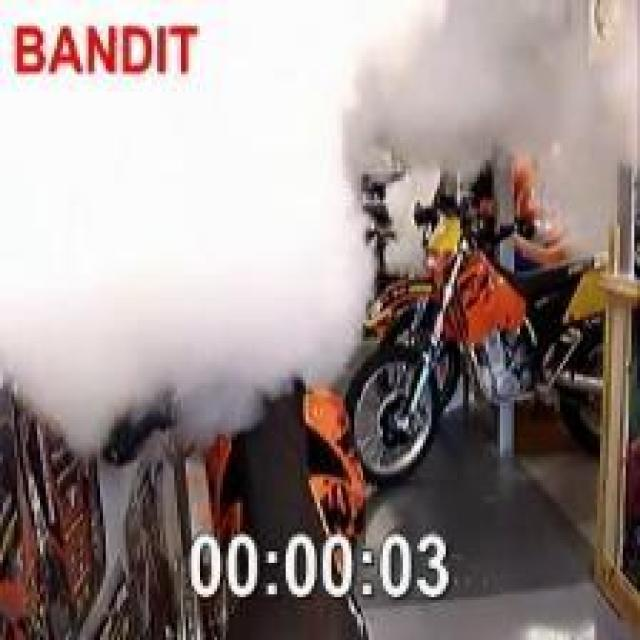fire: (0, 0, 383, 454), (337, 0, 637, 251)
